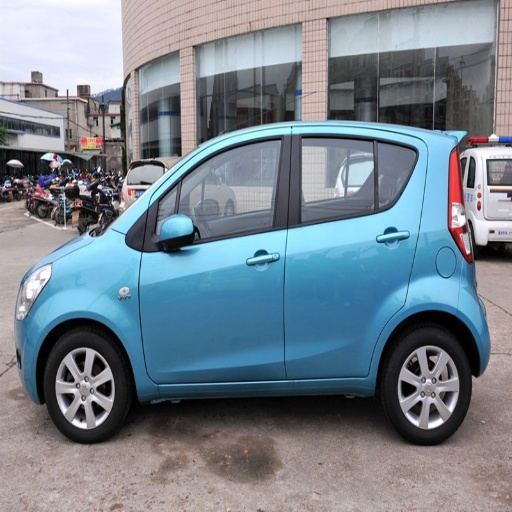back_left_door: (288, 130, 420, 378)
front_left_door: (140, 131, 291, 383)
